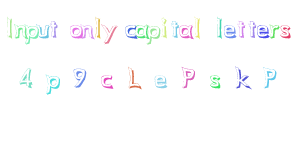4: (18, 67, 33, 87)
9: (72, 67, 87, 88)
I: (3, 16, 20, 40)
L: (127, 66, 142, 89)
P: (181, 66, 195, 88), (263, 67, 277, 88)
a: (179, 24, 194, 39), (134, 24, 148, 38)
c: (123, 24, 137, 38), (100, 74, 113, 88)
e: (223, 23, 237, 39), (256, 23, 269, 38), (154, 74, 167, 89)
i: (159, 17, 169, 36)
k: (235, 66, 253, 89)
l: (215, 15, 223, 39), (194, 16, 202, 39), (94, 17, 101, 38)
n: (80, 23, 94, 39), (13, 23, 27, 38)
o: (69, 23, 84, 39)
p: (24, 23, 40, 44), (45, 74, 61, 95), (148, 25, 160, 45)
r: (270, 23, 280, 39)
s: (208, 73, 221, 88), (279, 23, 291, 39)
t: (49, 19, 59, 38), (170, 20, 179, 39), (248, 19, 257, 38), (237, 19, 245, 37)
u: (36, 23, 50, 38)
y: (101, 24, 117, 45)
